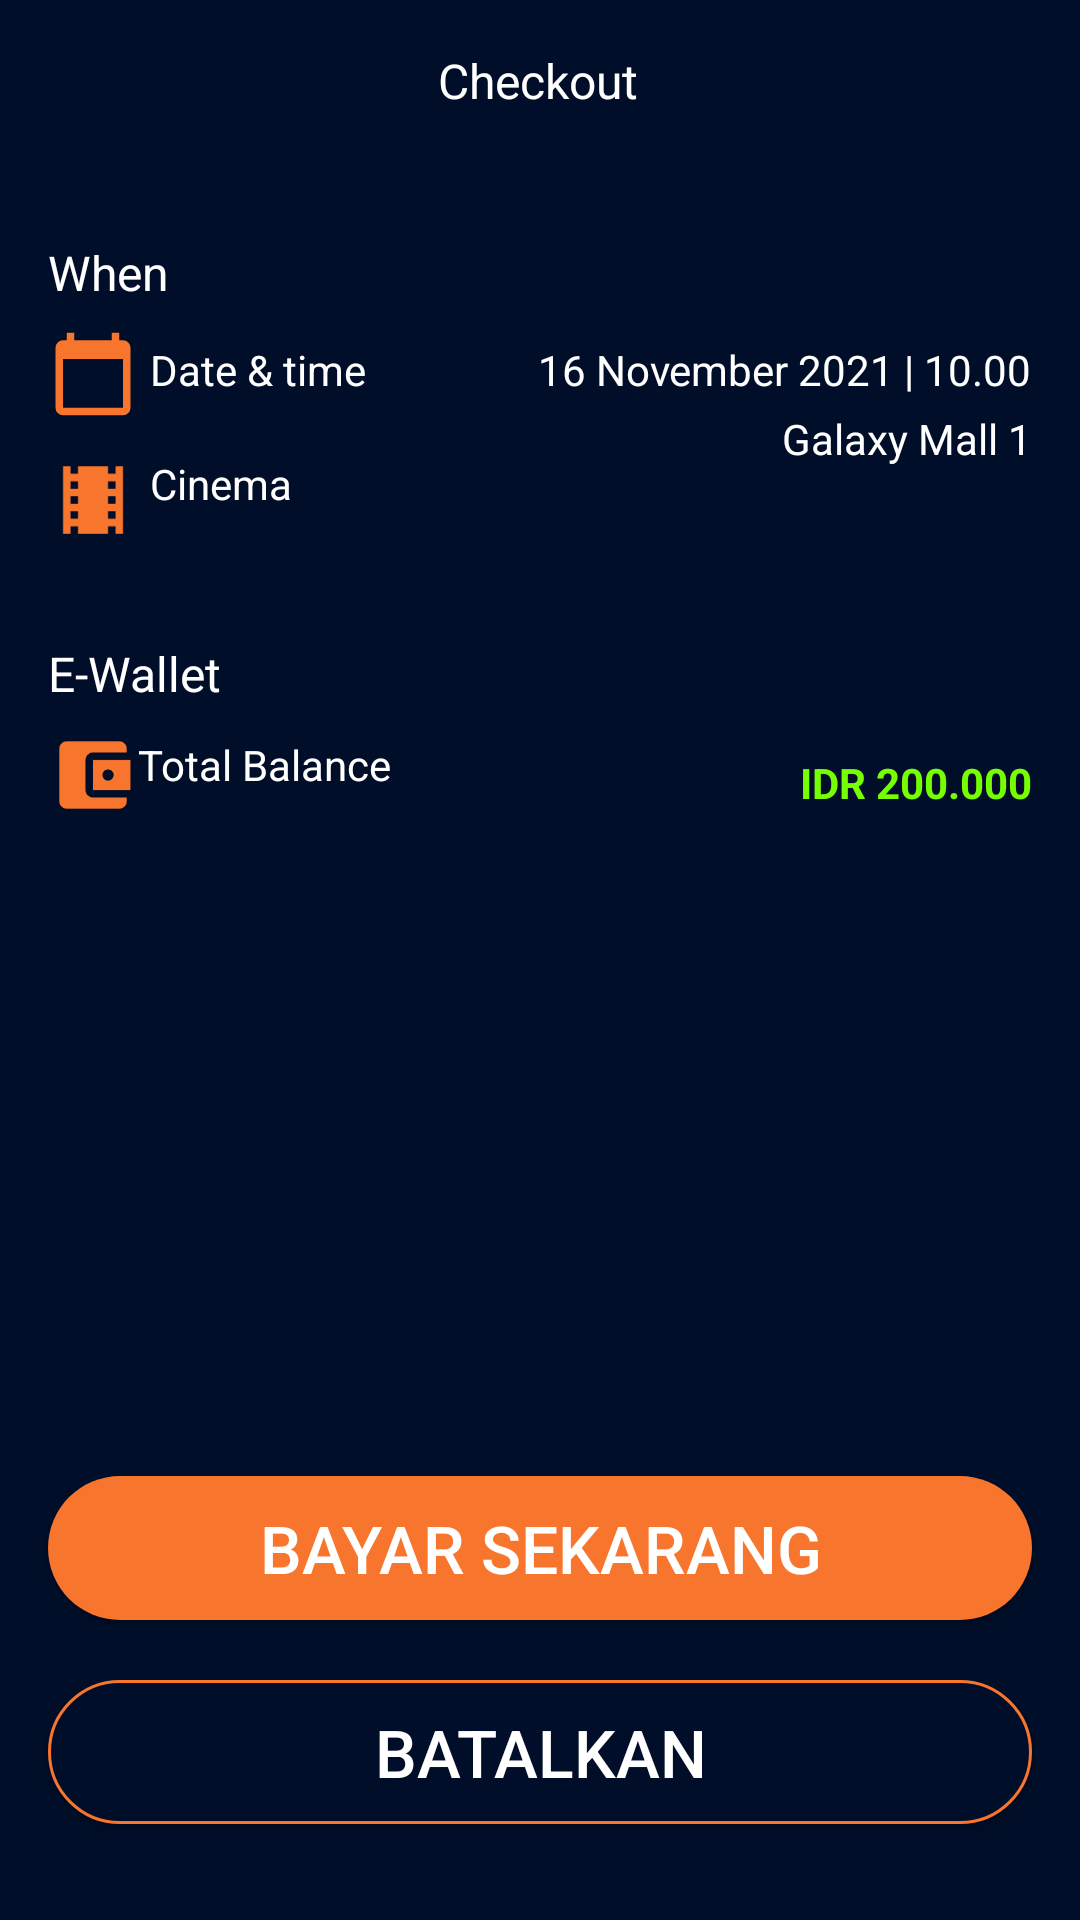

Named icons in this screenshot (1080px x 1920px) and their centers, point (x, y):
calendar today: point (93, 374)
local movies: point (93, 500)
